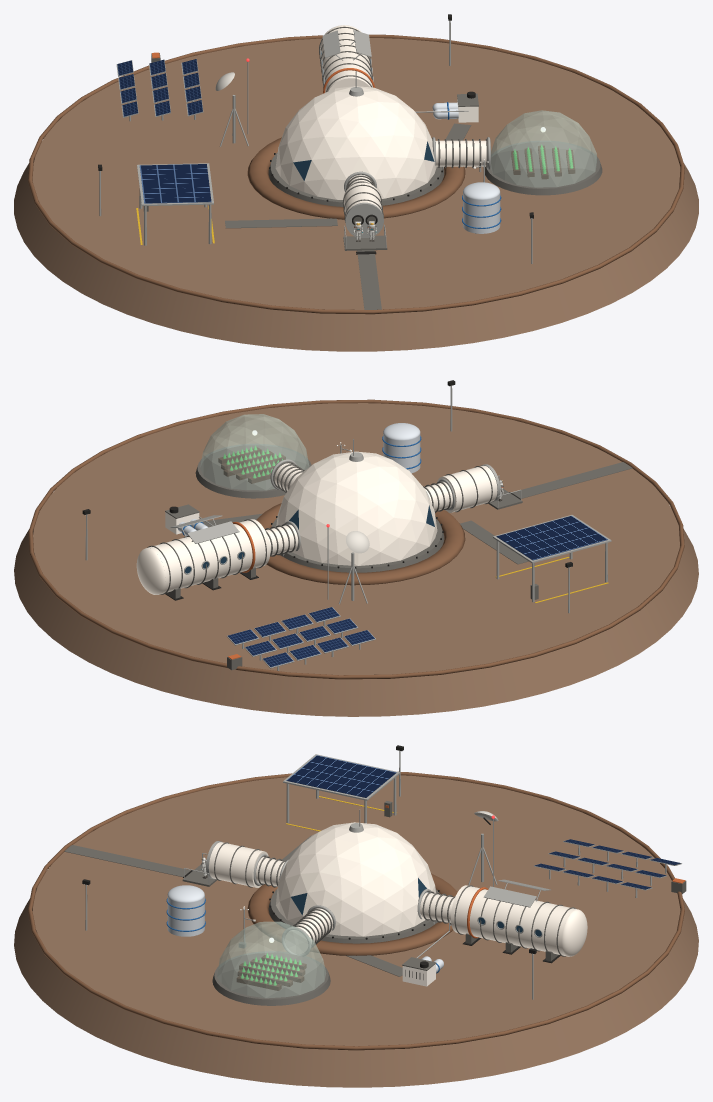
The model's file is base_gale.glb.
3 views of the same model, one above another, from view 1: azimuth 30°, elevation 25°; view 2: azimuth 150°, elevation 25°; view 3: azimuth 270°, elevation 25° (orthographic).
Bounding box in the file's own units: 54.99 × 11.87 × 54.99.
Materials: 30 (1 with a texture image).
